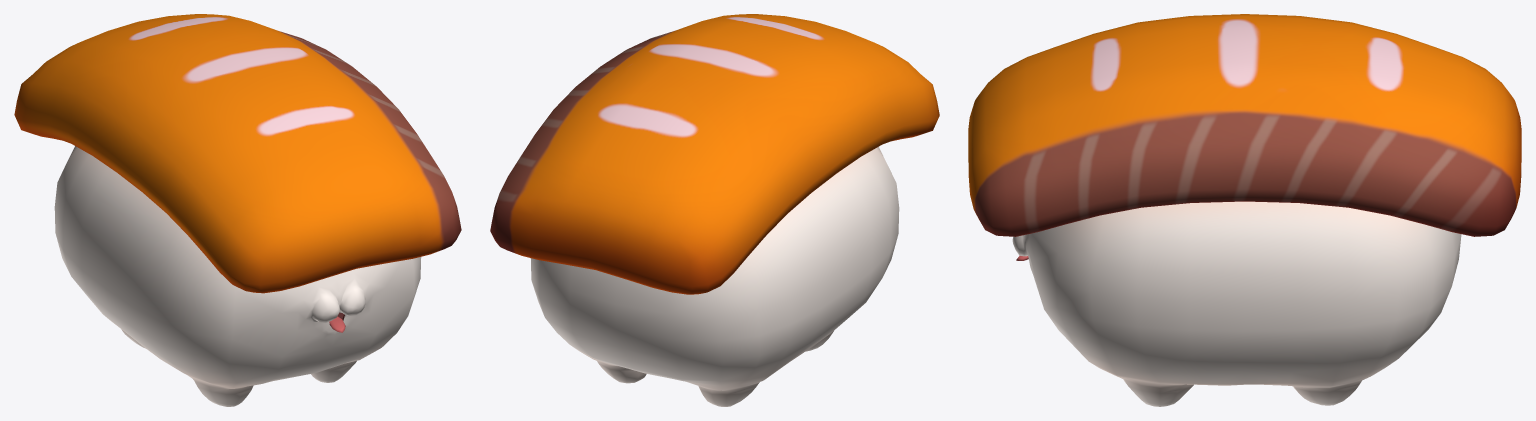
The model's file is Sushiinu_salmon.fbx.
3 views of the same model, side by side, from view 1: azimuth 30°, elevation 25°; view 2: azimuth 150°, elevation 25°; view 3: azimuth 270°, elevation 25° (orthographic). The views are drawn at different scales.
Parts seen in each view (by area): view 1: salmon, body; view 2: salmon, body; view 3: salmon, body.
Boxes of the visible parts, left/top/right/bottom form: salmon: left=14, top=14, right=461, bottom=293; body: left=54, top=146, right=421, bottom=406; salmon: left=490, top=14, right=939, bottom=294; body: left=530, top=147, right=899, bottom=406; salmon: left=968, top=14, right=1521, bottom=236; body: left=1012, top=201, right=1461, bottom=406.
Size of the model in its own units: 28.16 by 31.12 by 46.61.
